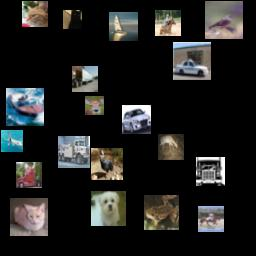airplane: (1, 130, 23, 152)
automobile: (173, 42, 211, 80), (122, 105, 151, 134)
bird: (205, 1, 243, 39), (91, 148, 123, 180)
cat: (10, 198, 48, 236), (22, 1, 48, 27), (63, 10, 82, 29)
deer: (158, 134, 184, 160), (85, 96, 104, 115)
dog: (91, 191, 126, 226)
frog: (144, 195, 179, 230)
ship: (6, 88, 44, 126), (109, 12, 138, 41)
truck: (58, 136, 90, 168), (196, 157, 225, 186), (72, 66, 98, 92), (16, 162, 42, 188)
